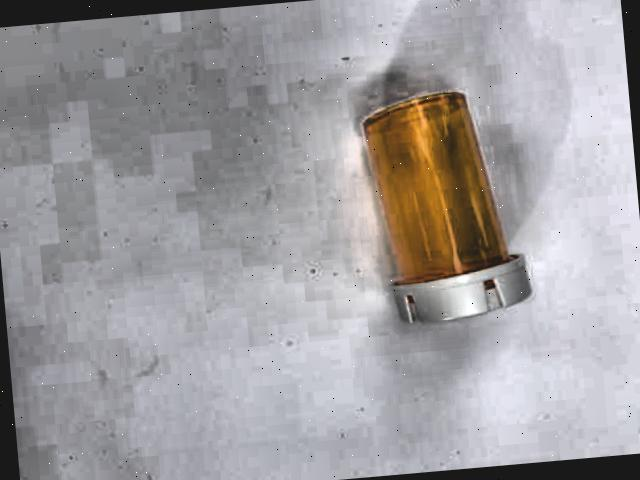Plastic: (334, 72, 549, 363)
